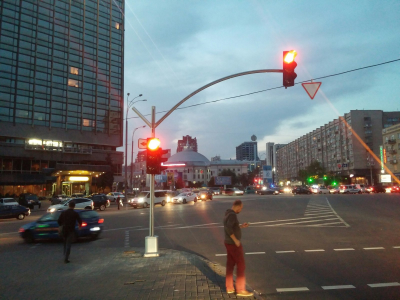trafficlight_red: (146, 136, 162, 175), (282, 49, 297, 86)
